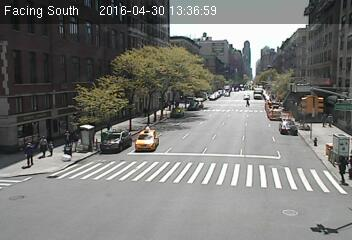neg: (181, 158, 232, 225), (268, 205, 290, 235), (296, 74, 318, 104), (141, 126, 159, 150), (140, 166, 157, 189), (276, 23, 290, 41), (255, 36, 269, 54), (278, 81, 289, 97), (215, 3, 225, 16), (252, 68, 261, 81), (240, 34, 248, 45), (245, 52, 251, 60), (263, 61, 269, 68)
pos: (330, 151, 351, 187), (19, 143, 38, 169), (36, 134, 51, 156), (43, 141, 58, 161), (62, 129, 77, 149), (327, 112, 339, 128), (319, 113, 331, 129), (104, 118, 115, 133), (243, 95, 252, 107), (167, 103, 174, 113)
